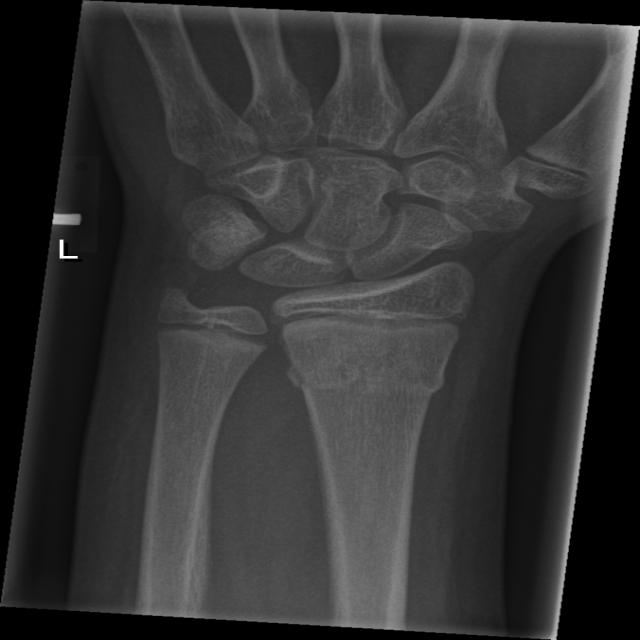radius fracture: (276, 352, 488, 498)
